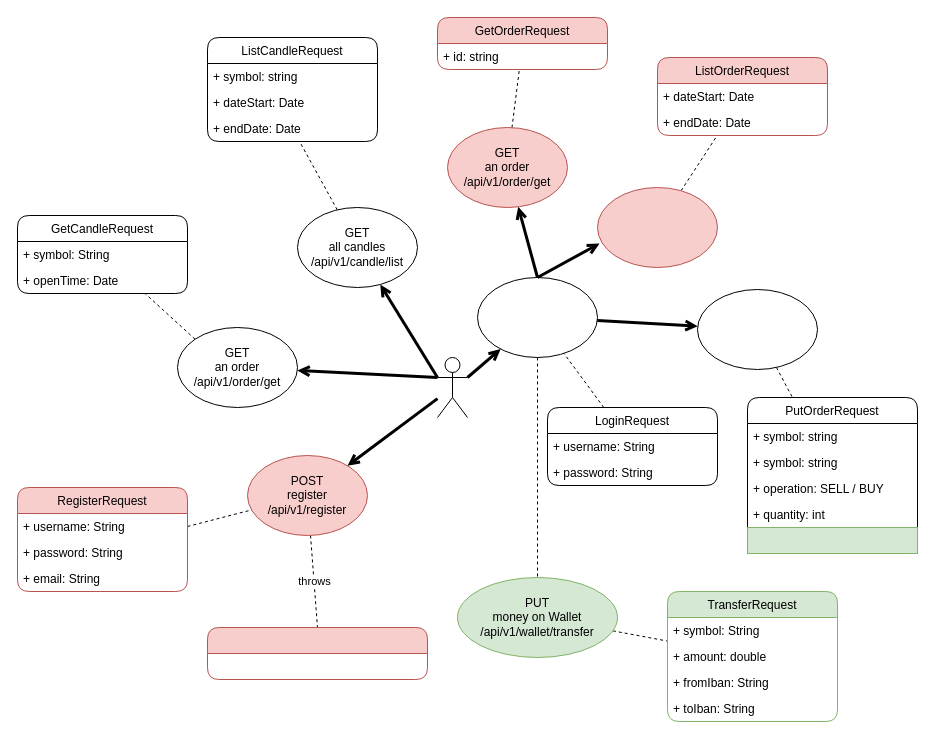
Image size: 935x742. Some labels were removed from this diagram. Each missing label, with the centre of its shape:
"+ wallet: Wallet" belongs at point (832, 540).
"Actor" belongs at point (452, 387).
"GET all order /api/v1/order/list" belongs at point (657, 227).
"POST login /api/v1/login" belongs at point (537, 317).
"PUT an order /api/v1/order/add" belongs at point (757, 329).
"UsernameAlreadyKnownException" belongs at point (317, 653).
